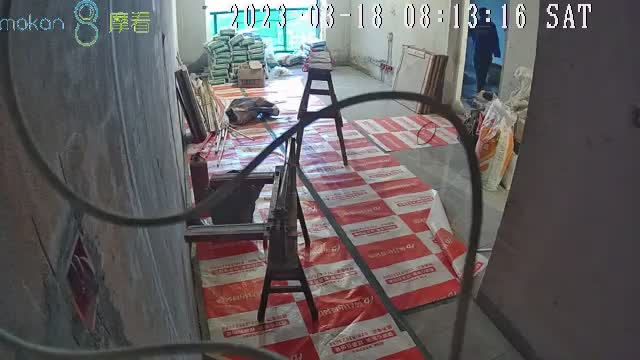people: (468, 7, 500, 93)
window: (206, 1, 321, 52)
